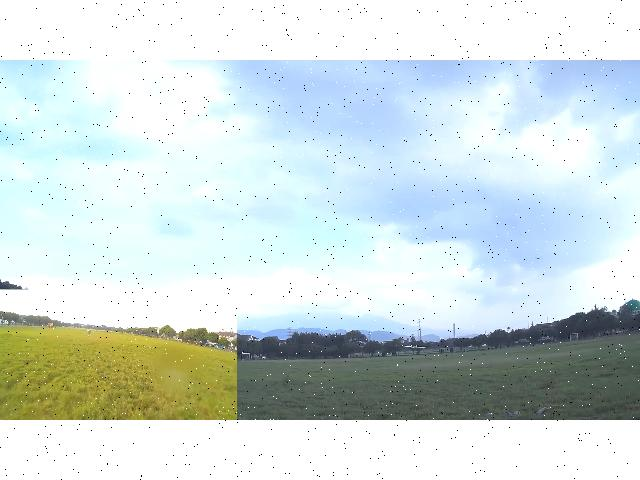Anti-Drone: (398, 340, 434, 356)
